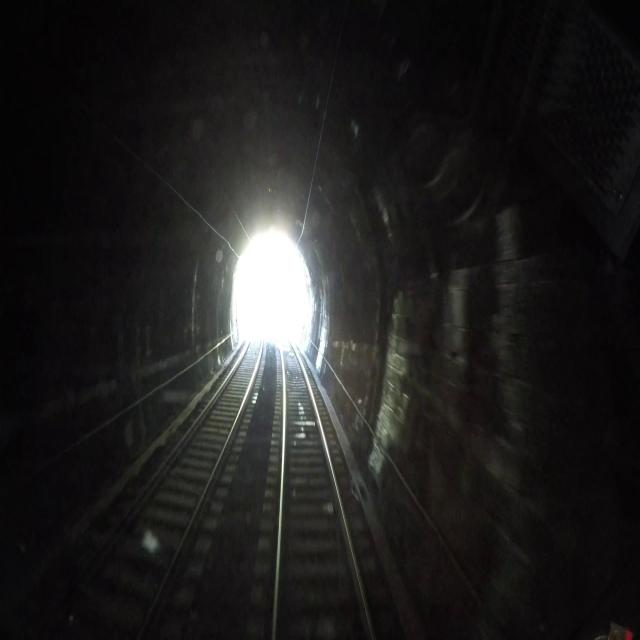rail-track: (40, 339, 260, 639), (277, 340, 371, 639)
